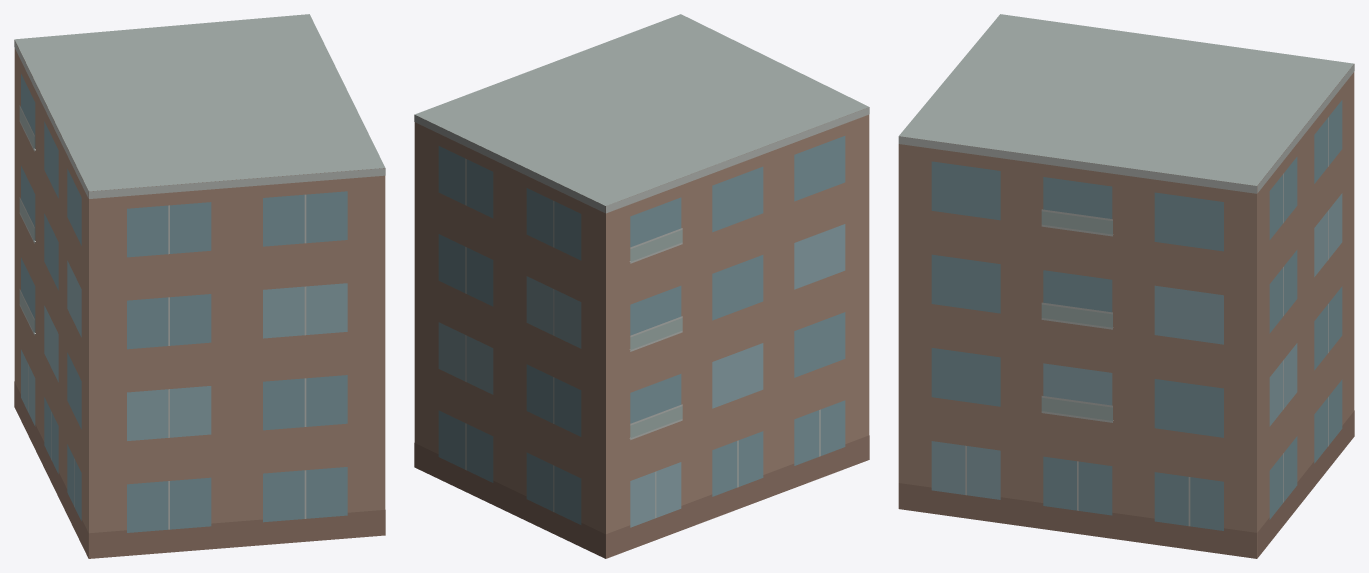
The model's file is survey-upis-32903859.glb.
3 renders of one model, left to right at view 1: azimuth 30°, elevation 25°; view 2: azimuth 150°, elevation 25°; view 3: azimuth 270°, elevation 25°, orthographic. The views are drawn at different scales.
Visible parts, largest first — view 1: survey-upis-32903859.tmp; view 2: survey-upis-32903859.tmp; view 3: survey-upis-32903859.tmp.
Part boxes in pixels (x1,y1,x2,y2): survey-upis-32903859.tmp: (14, 14, 385, 558); survey-upis-32903859.tmp: (414, 14, 869, 558); survey-upis-32903859.tmp: (898, 14, 1354, 558).
Bounding box in the file's own units: 11.49 × 11.6 × 12.86.
